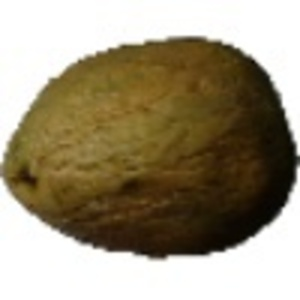mamão: (4, 28, 295, 268)
